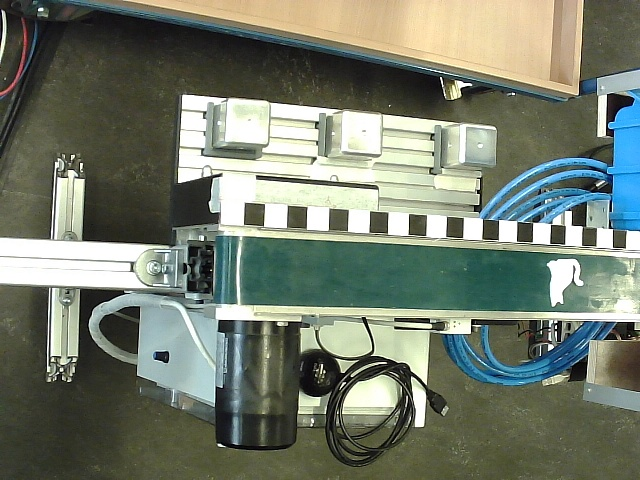cat: (546, 257, 585, 307)
